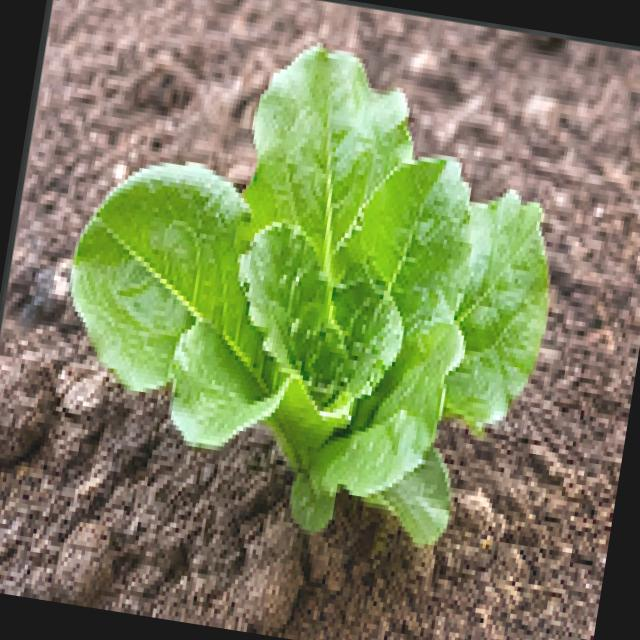inmadura: (74, 46, 546, 543)
